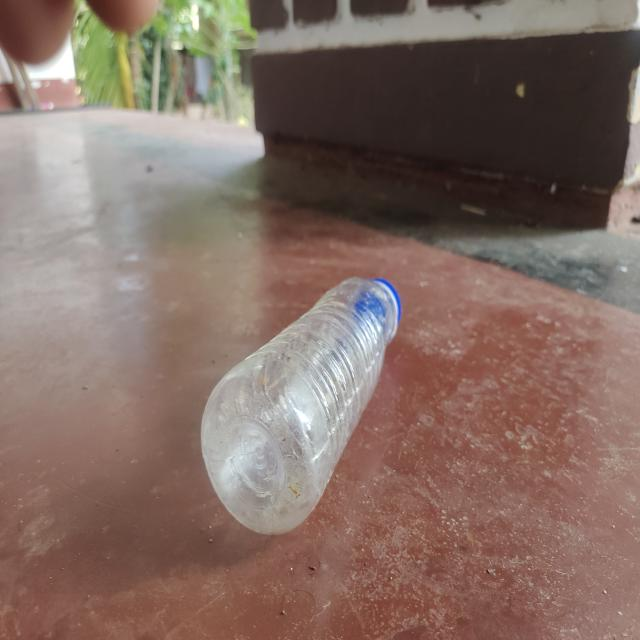plastic: (198, 276, 399, 542)
